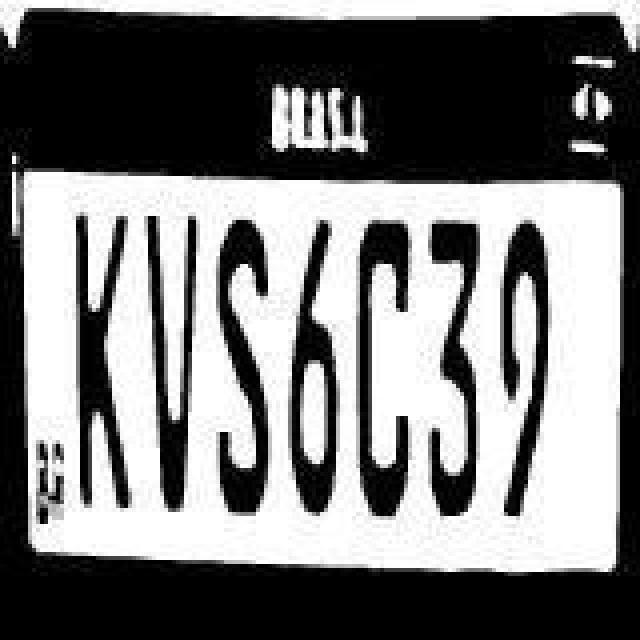3: (430, 216, 498, 528)
6: (284, 214, 356, 522)
9: (502, 222, 570, 530)
C: (360, 214, 424, 514)
K: (70, 198, 146, 506)
S: (208, 212, 280, 516)
V: (146, 204, 206, 500)
